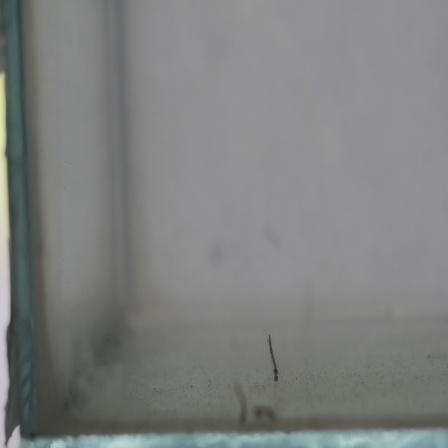Jentik-Nyamuk: (259, 334, 283, 385)
